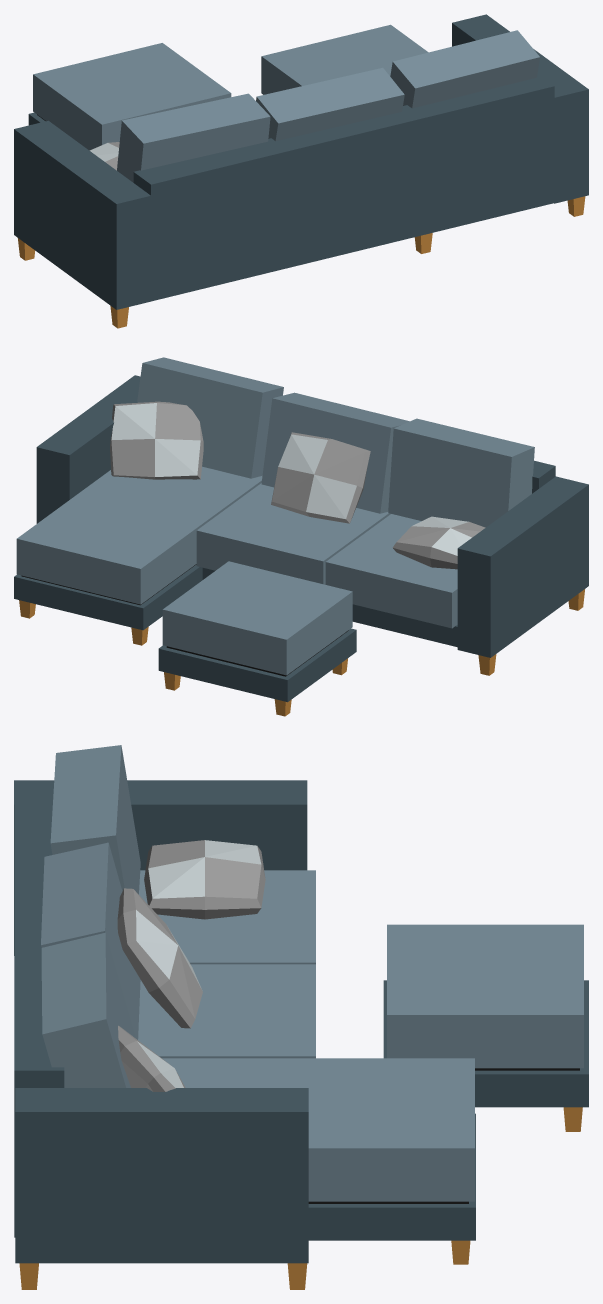
The model's file is couch1.obj.
The picture shows the model from 3 angles, top to bottom: view 1: azimuth 30°, elevation 25°; view 2: azimuth 150°, elevation 25°; view 3: azimuth 270°, elevation 25°; orthographic projection. The views are drawn at different scales.
Visible parts, largest first — view 1: group1177553632, group555617489, group1633872756, group1082007962, group384254947, group1730164428, group1099761130, group1314930489, group1922069655; view 2: group1633872756, group1099761130, group555617489, group1082007962, group198131767, group384254947, group737595770, group1730164428, group508393492, group1307475515, group1314930489, group1434836141 (+3 smaller); view 3: group1314930489, group1633872756, group1099761130, group198131767, group555617489, group384254947, group1177553632, group737595770, group1082007962, group1922069655, group1730164428, group1434836141 (+2 smaller).
Part boxes in pixels (x1,y1,x2,y2): group1177553632: [133, 74, 554, 301]; group555617489: [14, 120, 150, 309]; group1633872756: [28, 43, 231, 150]; group1082007962: [117, 93, 270, 182]; group384254947: [390, 30, 539, 108]; group1730164428: [256, 67, 404, 141]; group1099761130: [261, 24, 428, 94]; group1314930489: [452, 14, 588, 203]; group1922069655: [89, 142, 119, 170]; group1633872756: [158, 561, 356, 716]; group1099761130: [16, 466, 262, 604]; group555617489: [457, 476, 588, 657]; group1082007962: [388, 418, 534, 527]; group198131767: [196, 483, 390, 584]; group384254947: [137, 357, 283, 478]; group737595770: [325, 514, 457, 628]; group1730164428: [261, 392, 409, 513]; group508393492: [110, 401, 203, 479]; group1307475515: [271, 432, 370, 523]; group1314930489: [36, 375, 140, 523]; group1434836141: [14, 564, 202, 630]; group1314930489: [15, 1088, 308, 1263]; group1633872756: [383, 924, 588, 1131]; group1099761130: [162, 1058, 474, 1201]; group198131767: [138, 964, 315, 1058]; group555617489: [14, 780, 307, 955]; group384254947: [41, 932, 135, 1087]; group1177553632: [14, 789, 64, 1237]; group737595770: [139, 870, 315, 964]; group1082007962: [50, 745, 140, 894]; group1922069655: [144, 840, 265, 919]; group1730164428: [41, 842, 140, 1039]; group1434836141: [308, 1113, 475, 1240].
Size of the model in its own units: 1.86 by 0.6507 by 1.37.
